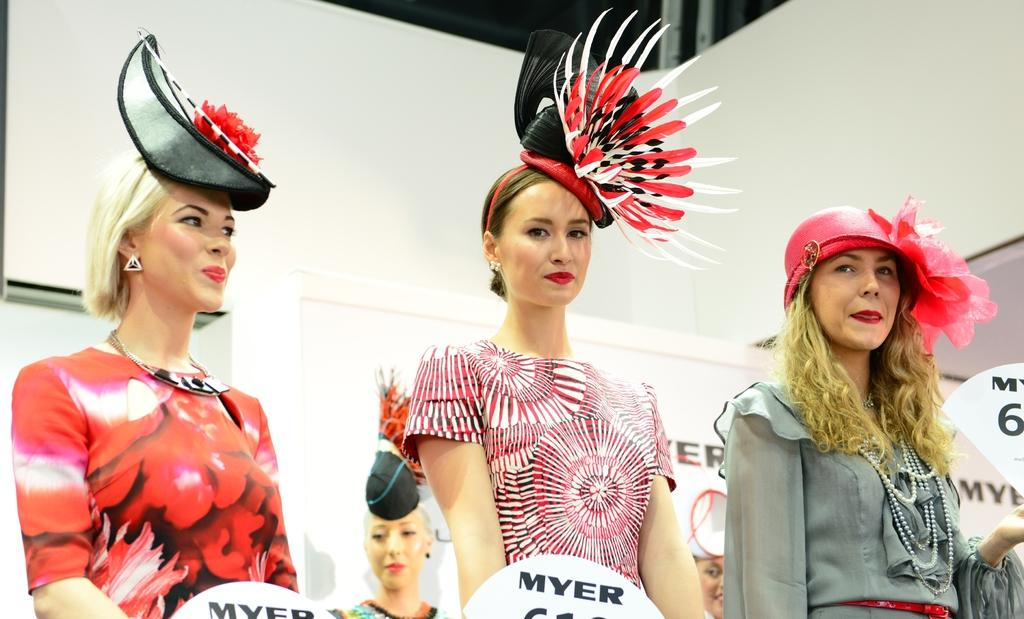Hat: (512, 4, 744, 272), (781, 194, 998, 355), (118, 29, 276, 213), (366, 360, 426, 524)
